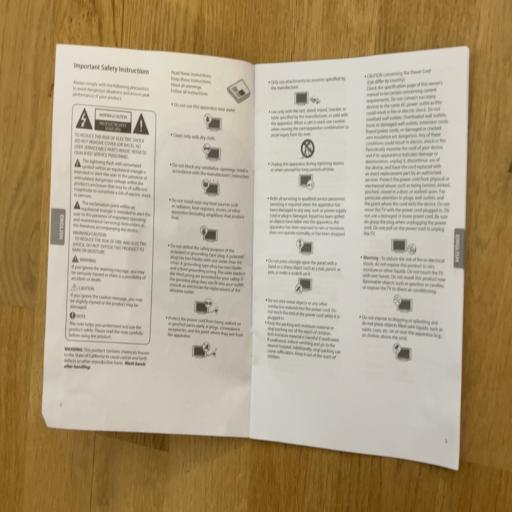paper: (30, 17, 512, 479)
